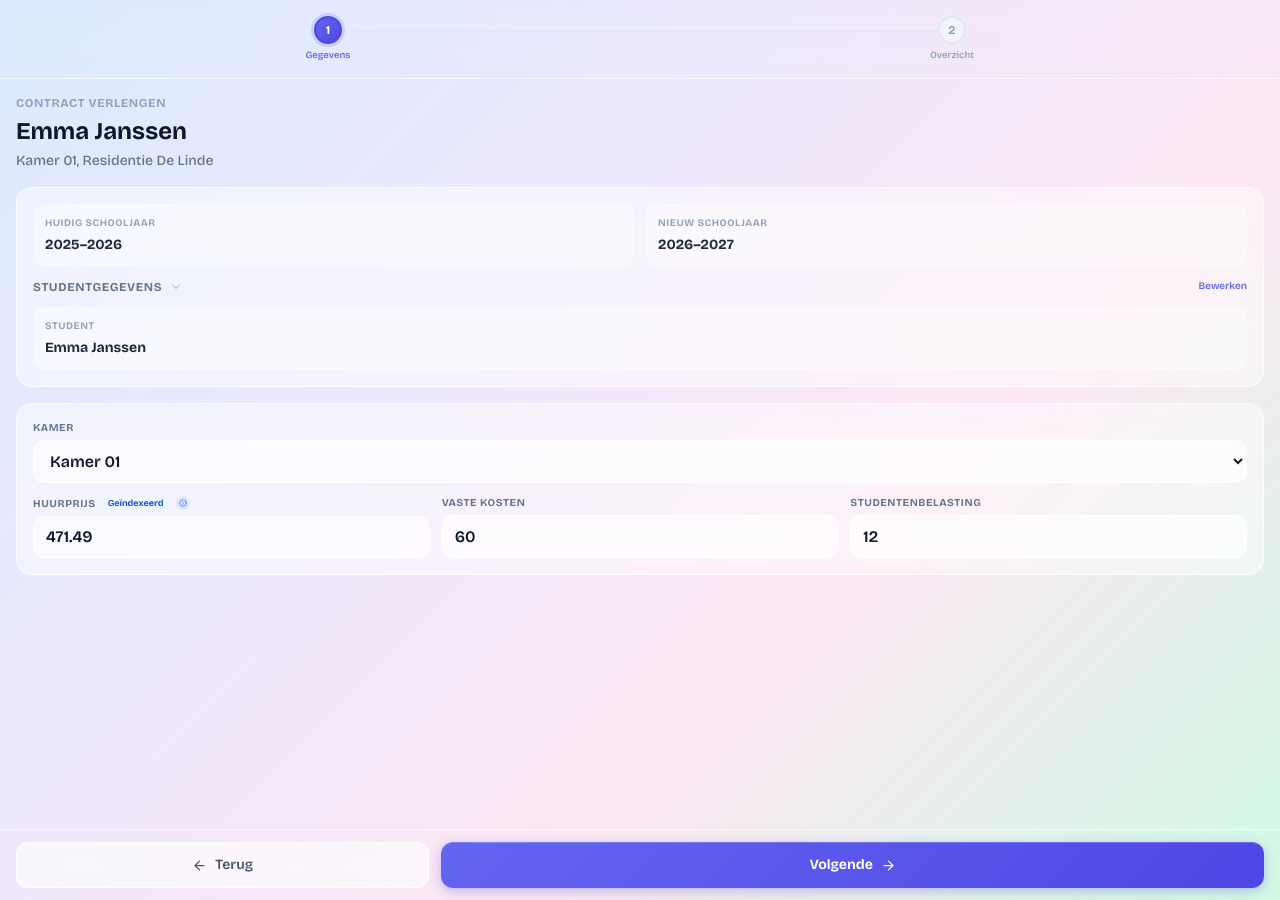
it: ContractRenewPage › gaat naar overzicht na Volgende
Click the button "Volgende": (853, 865) [441,842,1264,888]
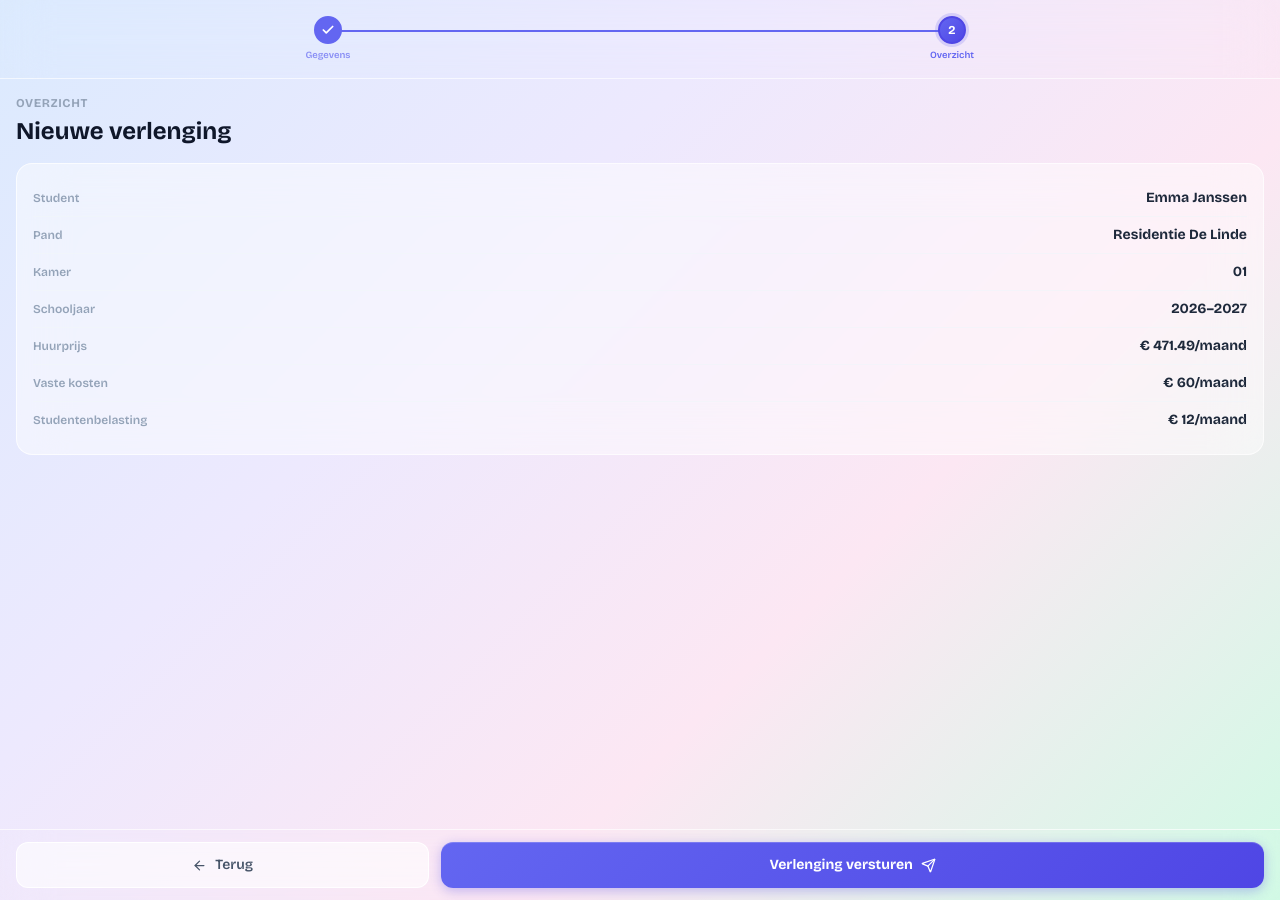
expect the heading "Nieuwe verlenging" is shown: met, box [16,117,232,145]
expect the button "Verlenging versturen" is shown: met, box [441,842,1264,888]
